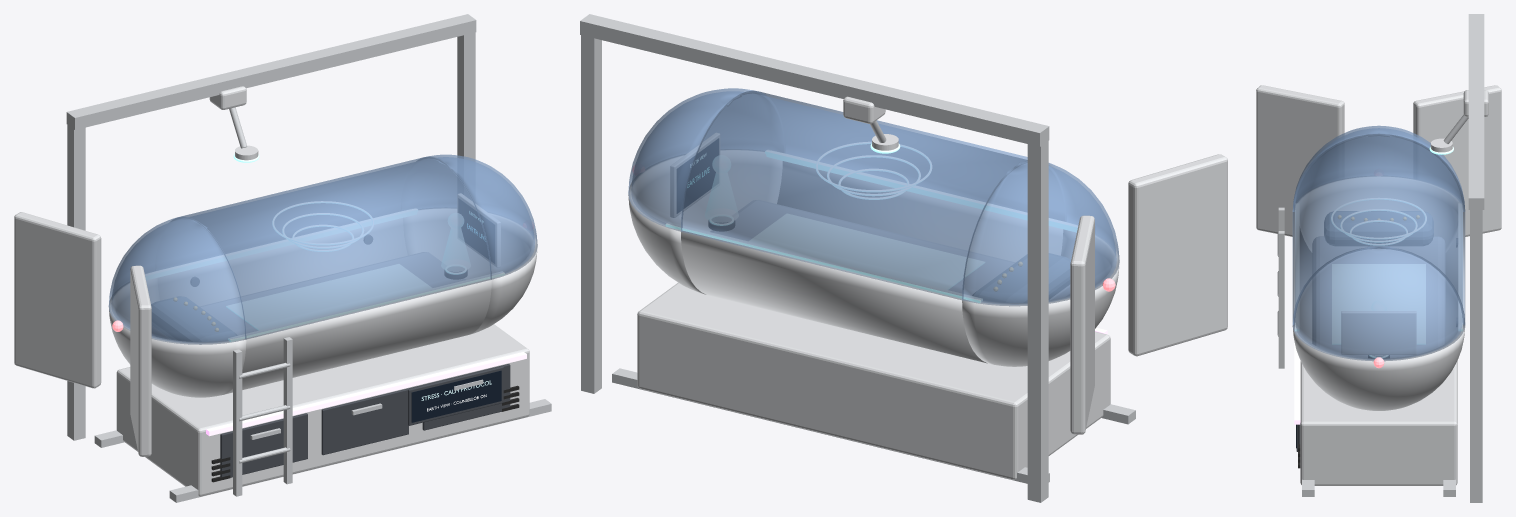
Rendered from recovery_pod_stress.glb.
The picture shows the model from 3 angles, left to right: view 1: azimuth 30°, elevation 25°; view 2: azimuth 150°, elevation 25°; view 3: azimuth 270°, elevation 25°; orthographic projection. The views are drawn at different scales.
Visible parts, largest first — view 1: Drawer_Handle, Smart_Canopy, Pod_Shell, Projector_Ring, Aurora_Strip, Circadian_Strip, Counsellor_Body; view 2: Drawer_Handle, Smart_Canopy, Pod_Shell, Projector_Ring, Circadian_Strip, Counsellor_Body, Aurora_Strip; view 3: Drawer_Handle, Smart_Canopy, Pod_Shell, Projector_Ring, Aurora_Strip, Circadian_Strip.
Boxes of the visible parts, box(x1,y1,x2,y2) form: Drawer_Handle: box(14, 14, 551, 502); Smart_Canopy: box(108, 154, 537, 344); Pod_Shell: box(108, 208, 537, 397); Projector_Ring: box(226, 154, 482, 330); Aurora_Strip: box(206, 201, 526, 436); Circadian_Strip: box(112, 208, 533, 400); Counsellor_Body: box(441, 213, 470, 271); Drawer_Handle: box(580, 14, 1227, 502); Smart_Canopy: box(628, 88, 1119, 306); Pod_Shell: box(628, 150, 1119, 366); Projector_Ring: box(694, 143, 984, 289); Circadian_Strip: box(632, 150, 1115, 302); Counsellor_Body: box(705, 155, 738, 221); Aurora_Strip: box(816, 142, 1107, 334); Drawer_Handle: box(1256, 14, 1501, 502); Smart_Canopy: box(1292, 125, 1465, 361); Pod_Shell: box(1292, 176, 1465, 410); Projector_Ring: box(1332, 146, 1453, 357); Aurora_Strip: box(1294, 198, 1426, 424); Circadian_Strip: box(1295, 203, 1462, 368).
Bounding box in the file's own units: 3.16 × 2.14 × 1.56.
9 materials, 9 textured.
